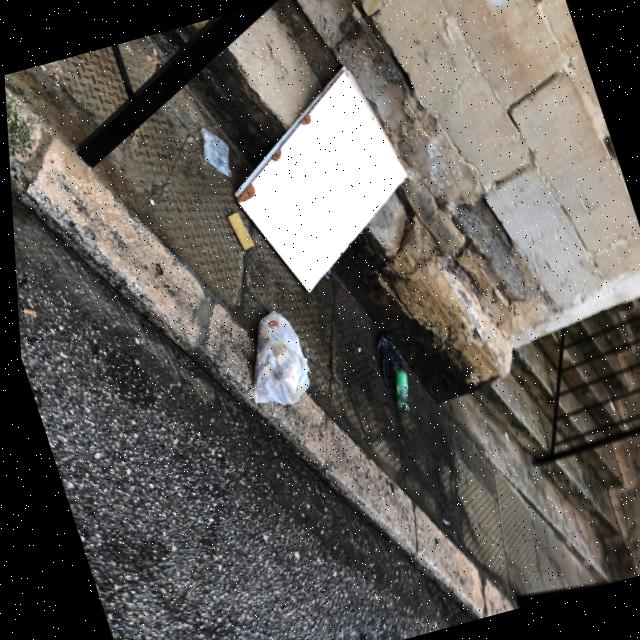Organic Waste -White Bag-: (222, 311, 317, 419)
Other: (201, 61, 434, 303), (371, 349, 421, 417), (192, 124, 235, 183), (222, 209, 256, 254)
